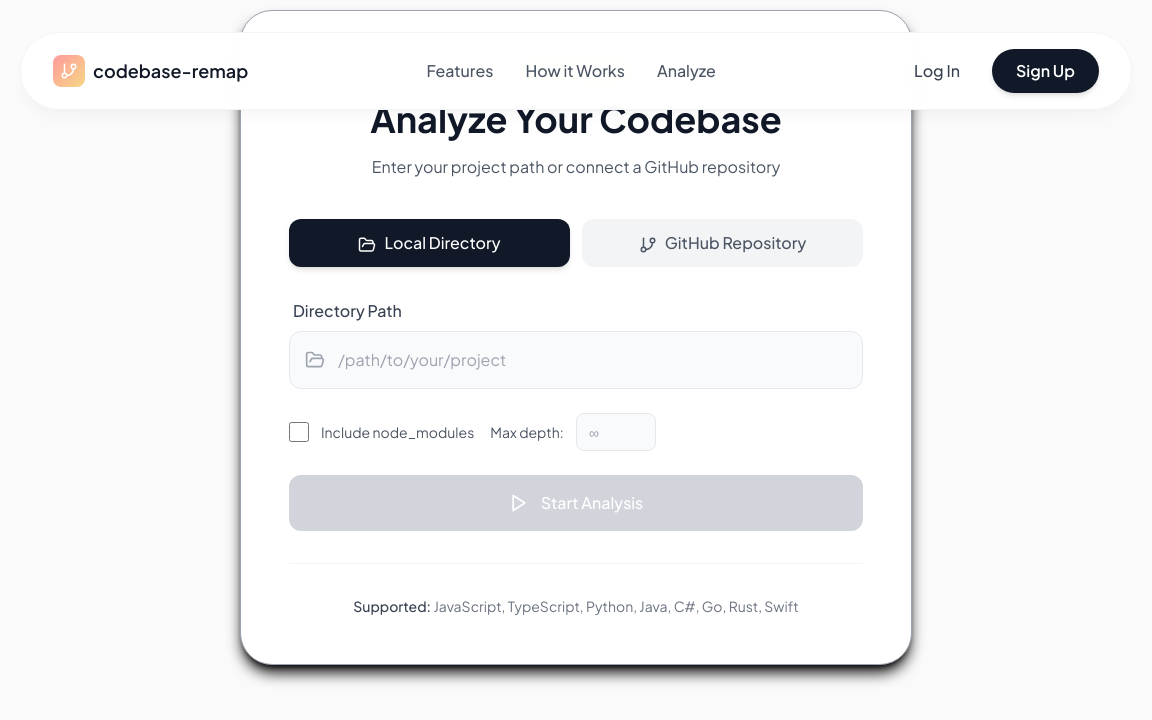
UploadPage › local directory form › should enable submit button when input has value
The image size is (1152, 720).
(page scrolled)
Type "/test/path" into the field with placeholder "/path/to/your/project" at (576, 360), box [289,331,863,389]
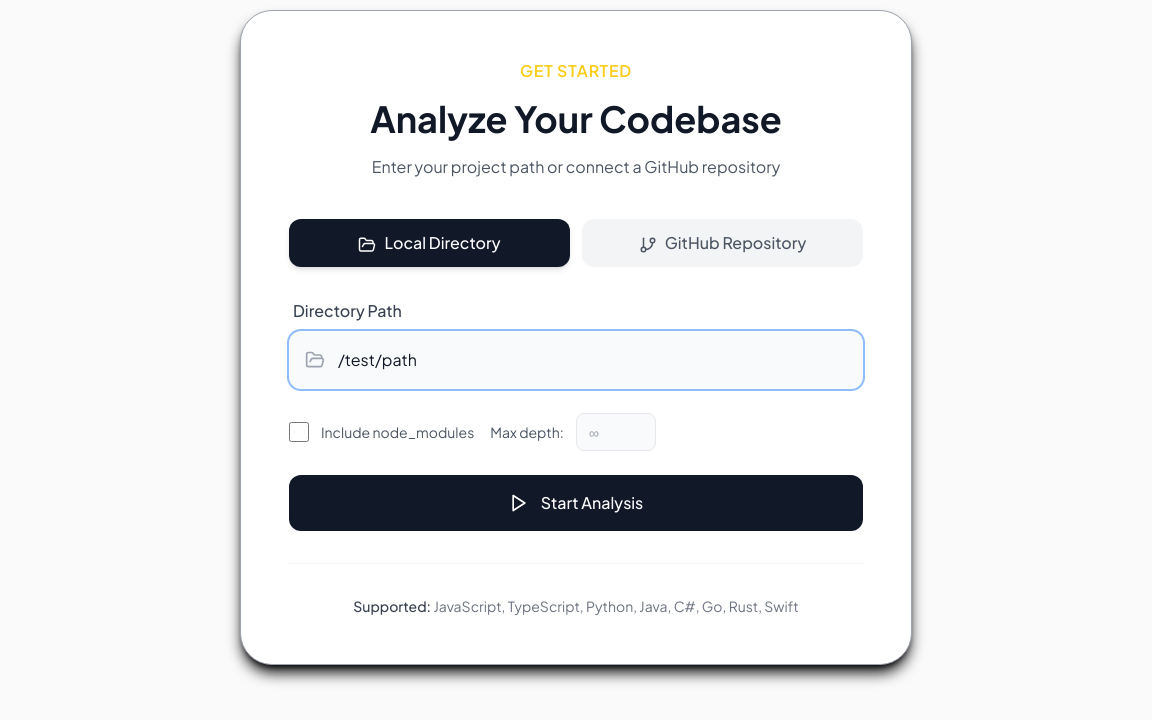
Check: the button "Start Analysis" is enabled, box [289,475,863,531]
